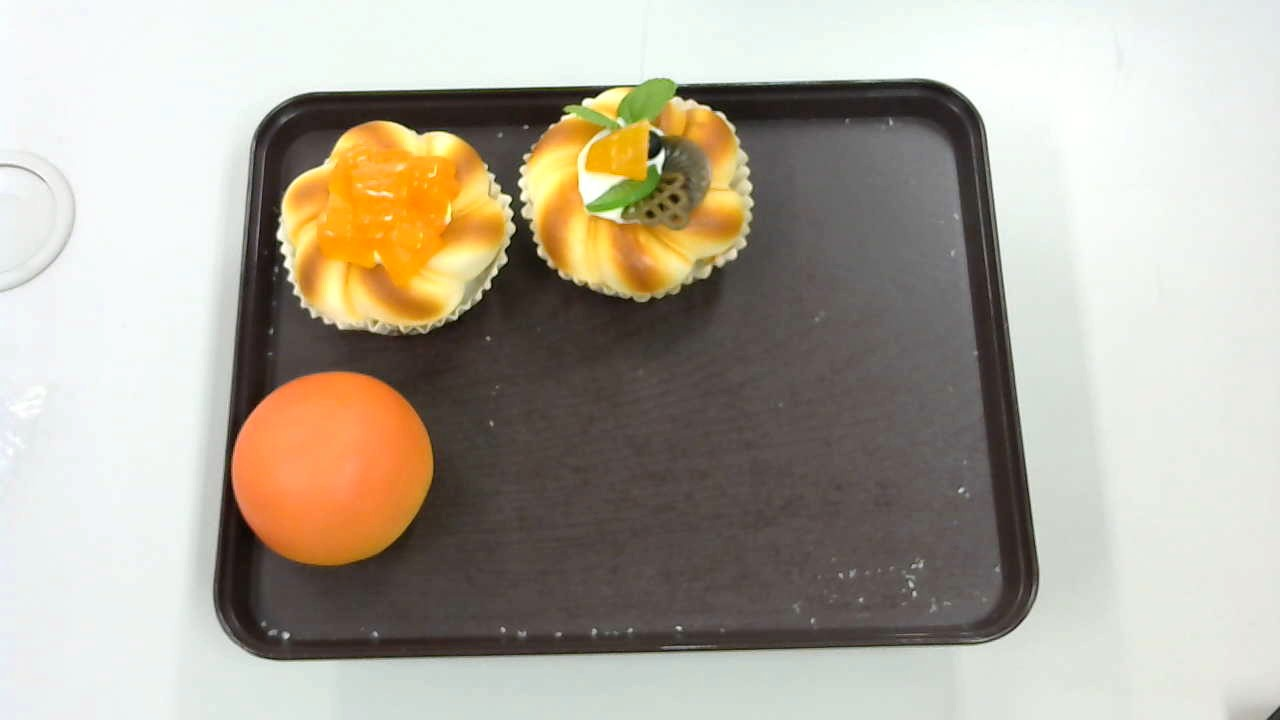bun: (230, 370, 434, 568)
fruit tart: (519, 77, 754, 301)
mango tart: (276, 120, 514, 335)
